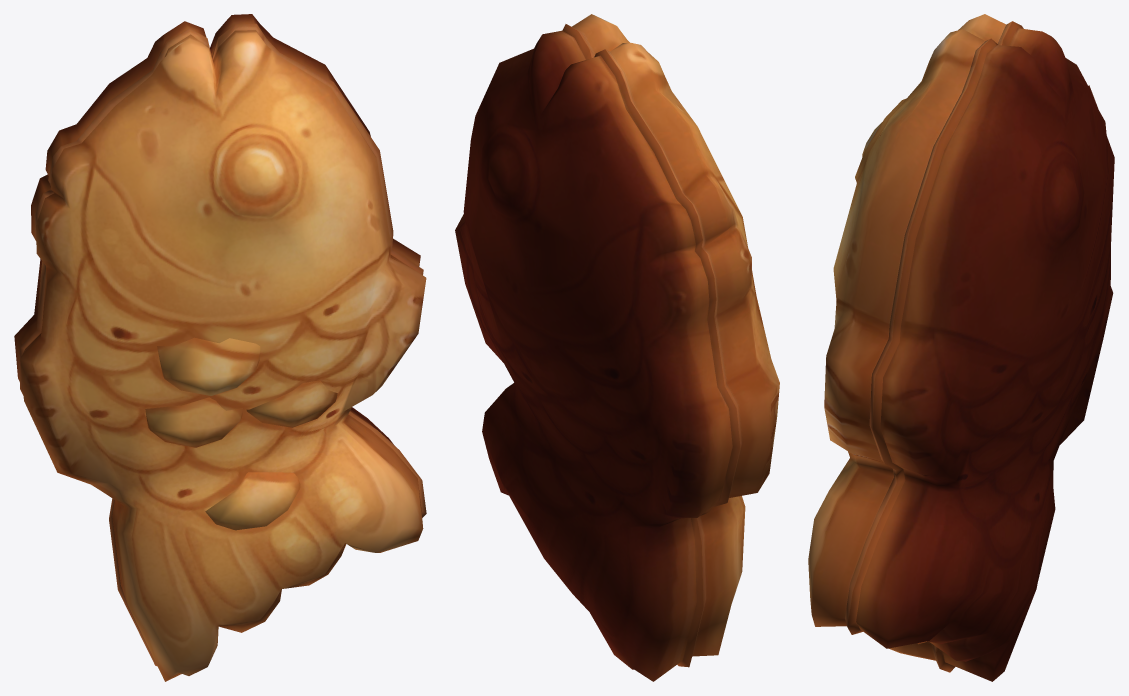
File: Taiyaki.fbx
3 renders of one model, left to right at view 1: azimuth 30°, elevation 25°; view 2: azimuth 150°, elevation 25°; view 3: azimuth 270°, elevation 25°, orthographic. The views are drawn at different scales.
Parts seen in each view (by area): view 1: Taiyaki; view 2: Taiyaki; view 3: Taiyaki.
Part boxes in pixels (box(x1,y1,x2,y2)): Taiyaki: box(14, 14, 426, 681); Taiyaki: box(455, 14, 779, 681); Taiyaki: box(808, 14, 1114, 681).
Size of the model in its own units: 81.4 by 138 by 56.27.
